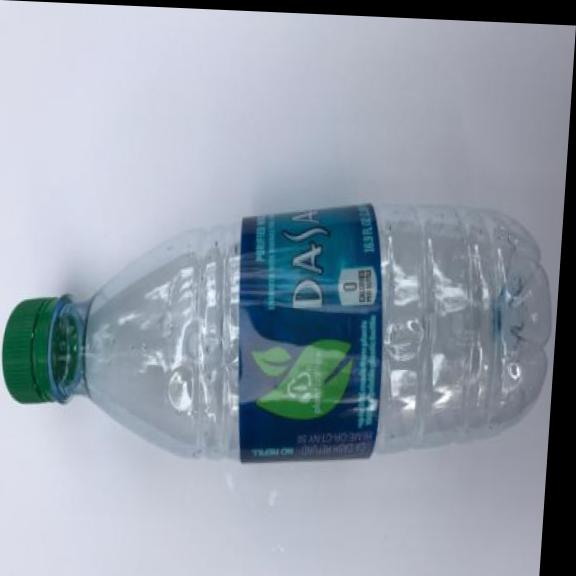Plastik: (0, 183, 563, 464)
